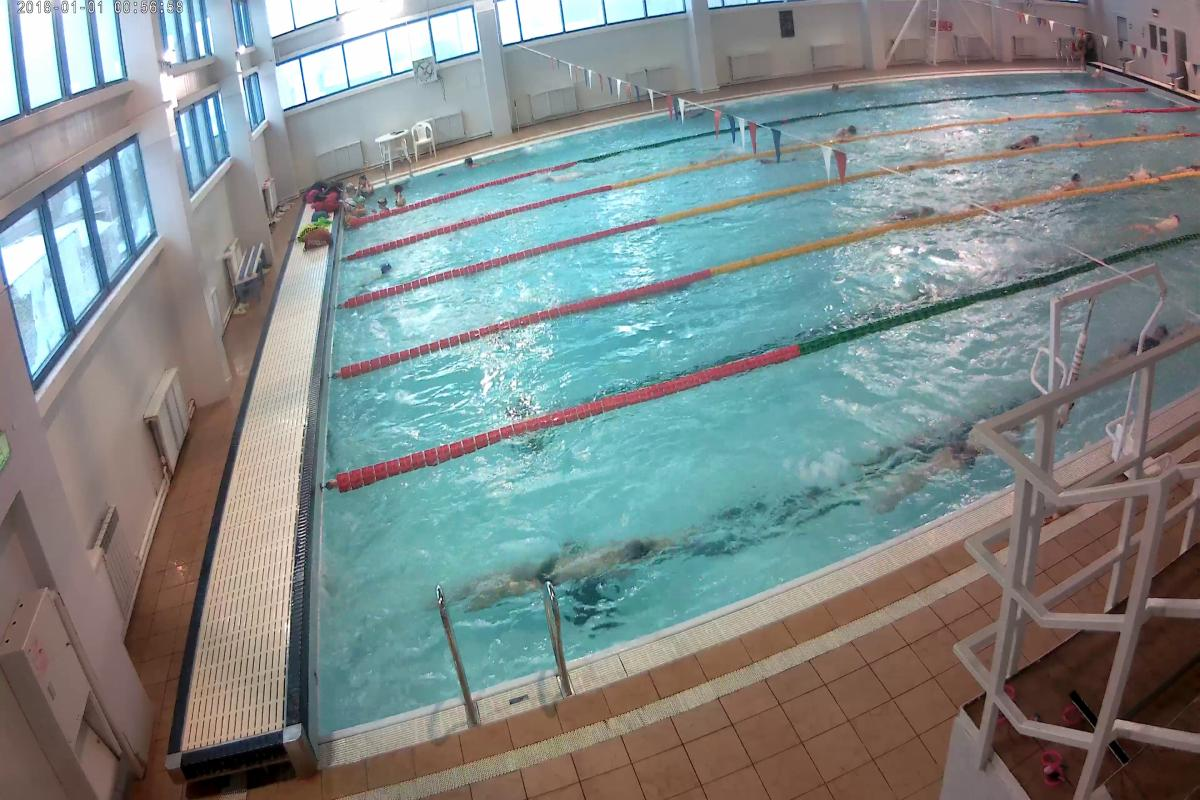swimmer: (462, 536, 692, 591), (1135, 206, 1186, 236), (1056, 162, 1088, 191), (1008, 130, 1042, 152), (1124, 162, 1154, 185), (831, 120, 863, 139)
